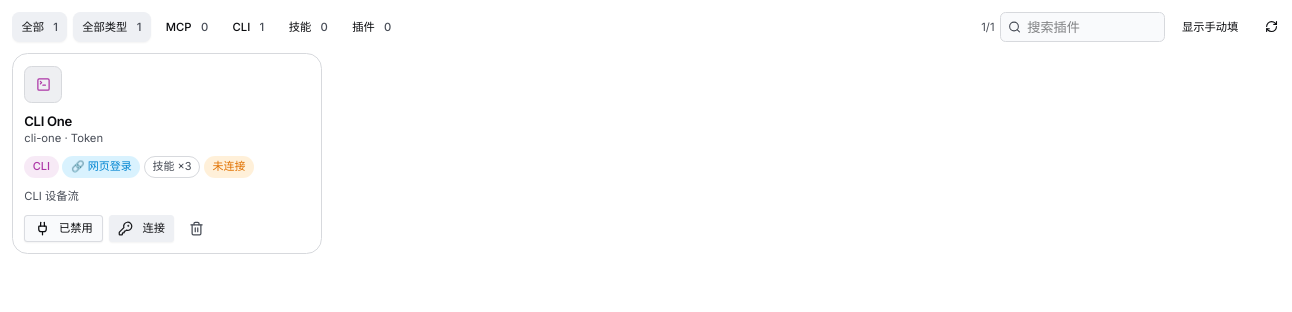
Test case: CapabilityMarketPanel › 旧 generation 取消失配时明示由权威卸载流程回收新会话
This screenshot has width=1292, height=312.
Expected: the text "CLI One" is shown, top-left (24, 113), bottom-right (72, 129)
What coordinates should you click on to do the following:
click the button titled "卸载能力包"
I would click on:
 (197, 228)
Its box is top-left (180, 215), bottom-right (214, 242).
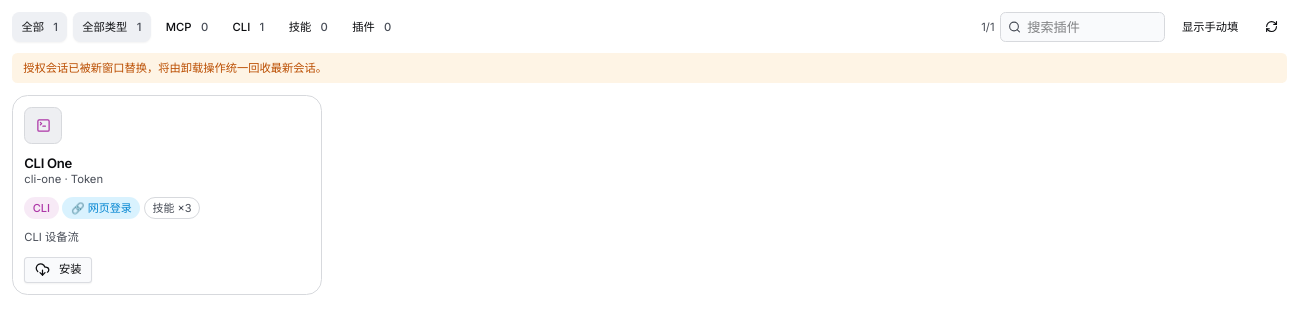
Expected: the text "授权会话已被新窗口替换，将由卸载操作统一回收最新会话。" is shown, top-left (12, 53), bottom-right (1287, 83)
